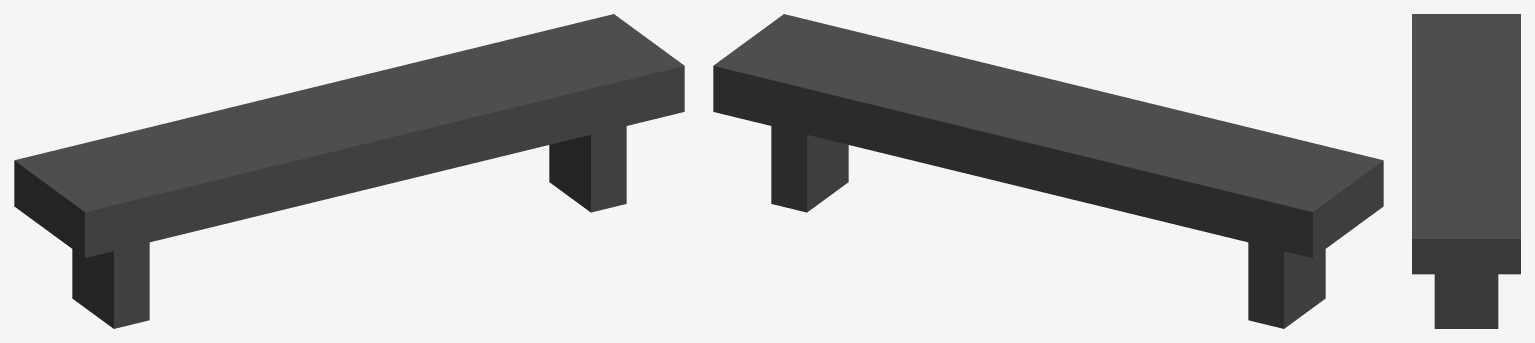
Rendered from BenchUV.fbx.
3 views of the same model, side by side, from view 1: azimuth 30°, elevation 25°; view 2: azimuth 150°, elevation 25°; view 3: azimuth 270°, elevation 25° (orthographic). The views are drawn at different scales.
Parts seen in each view (by area): view 1: Cube; view 2: Cube; view 3: Cube.
Part boxes in pixels (x1,y1,x2,y2): Cube: [14, 14, 684, 328]; Cube: [713, 14, 1383, 328]; Cube: [1412, 14, 1520, 328].
Bounding box in the file's own units: 276 × 60.63 × 56.34.
